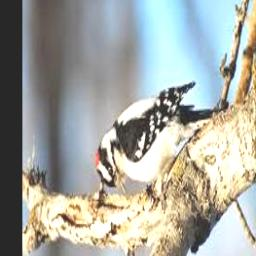Woodpecker: (96, 82, 221, 197)
